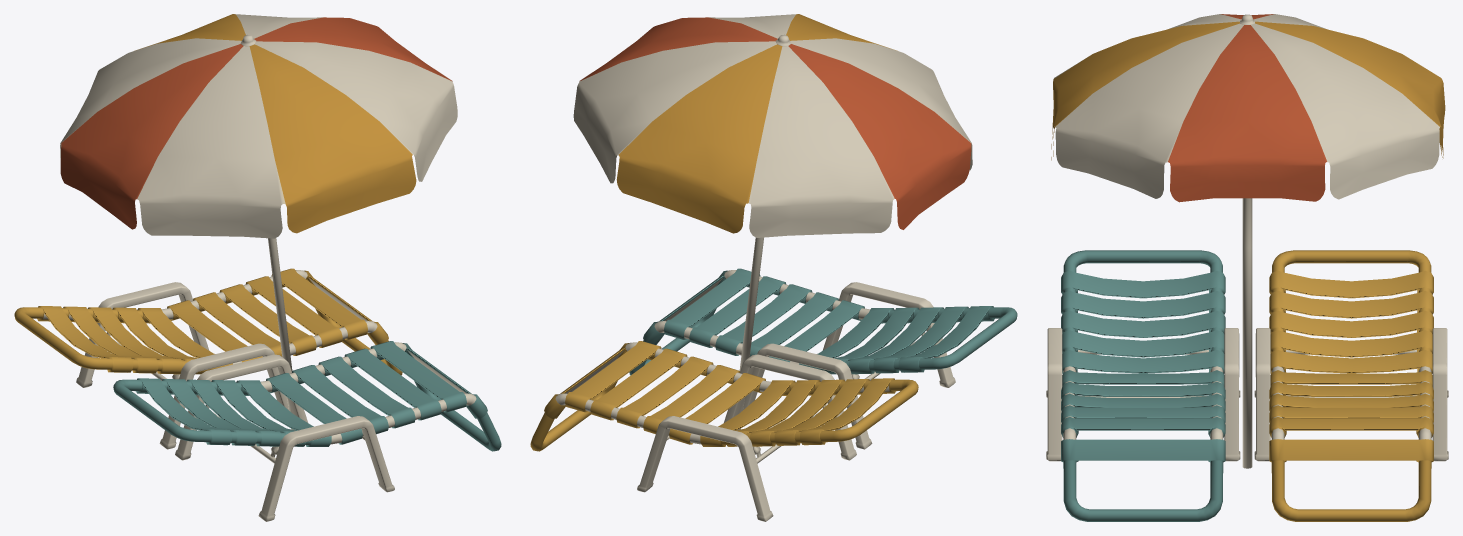
Rendered from beach-parasol.glb.
3 views of the same model, side by side, from view 1: azimuth 30°, elevation 25°; view 2: azimuth 150°, elevation 25°; view 3: azimuth 270°, elevation 25° (orthographic). The views are drawn at different scales.
Parts seen in each view (by area): view 1: FtrBeachparasol_node7, FtrBeachparasol_node6; view 2: FtrBeachparasol_node7, FtrBeachparasol_node6; view 3: FtrBeachparasol_node6, FtrBeachparasol_node7.
Boxes of the visible parts, box(x1,y1,x2,y2) form: FtrBeachparasol_node7: box(60, 14, 457, 238); FtrBeachparasol_node6: box(14, 35, 501, 521); FtrBeachparasol_node7: box(573, 14, 972, 237); FtrBeachparasol_node6: box(530, 34, 1017, 521); FtrBeachparasol_node6: box(1046, 14, 1448, 521); FtrBeachparasol_node7: box(1051, 14, 1445, 202).
Bounding box in the file's own units: 1.96 × 2.33 × 1.98.
